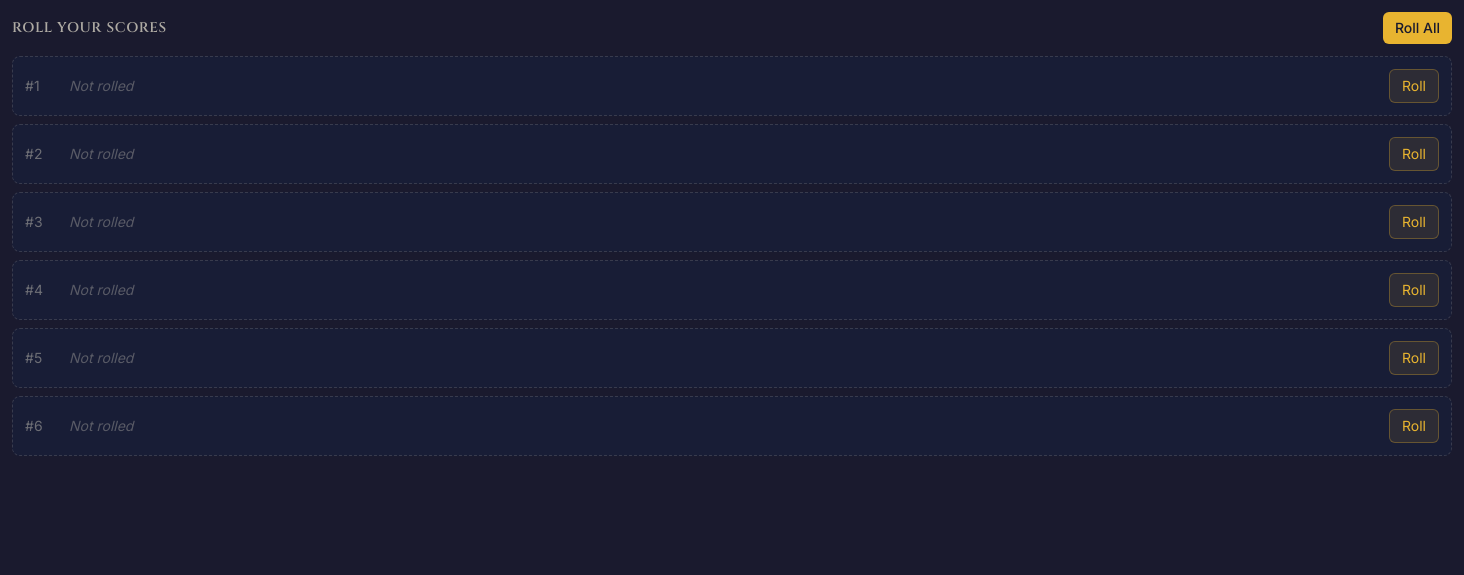
DiceRollingInterface › should show all 6 results after Roll All
This screenshot has width=1464, height=575.
Click the button with test id "roll-all-button" at (1417, 28), box [1383,12,1452,44]
Wait 3000 ms
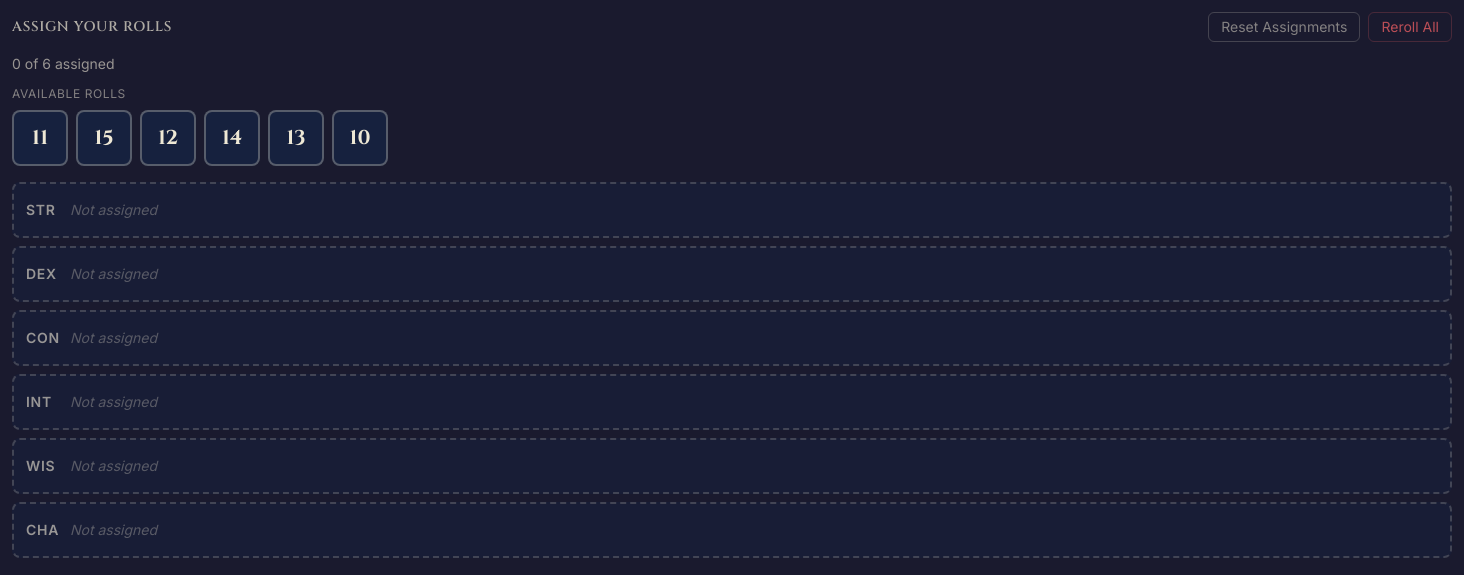
Result: the heading "Assign Your Rolls" is shown at [12,17,172,37]
